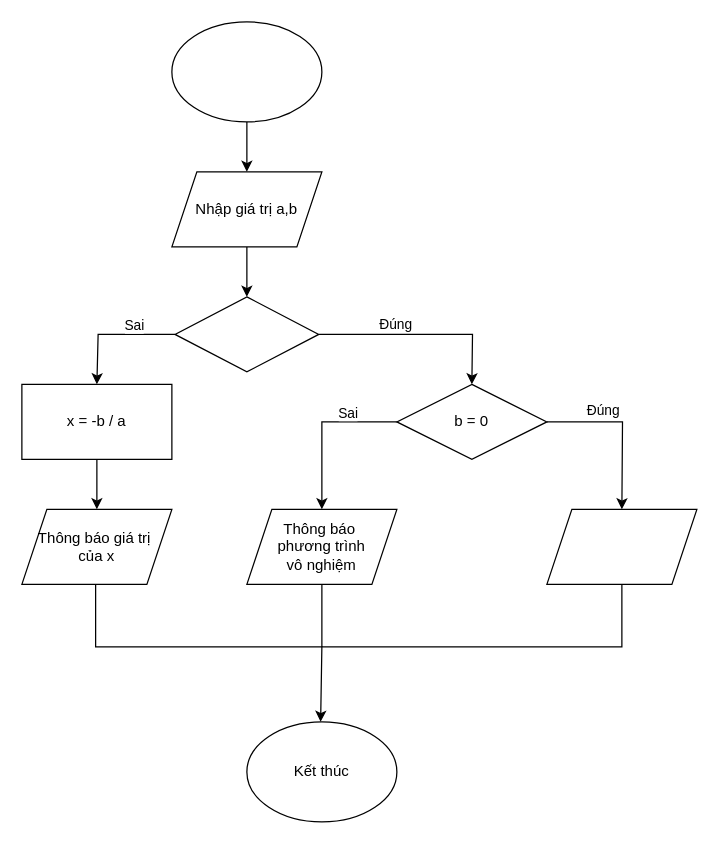
The diagram is 719 pixels wide and 844 high, and some of its shapes have lost their labels. The centre of each missing label's shape, as x and y in pixels:
"a = 0" goes at point 246,334.
"Bắt đầu" goes at point 246,71.
"Thông báo phương trình vô số nghiệm" goes at point 621,546.
